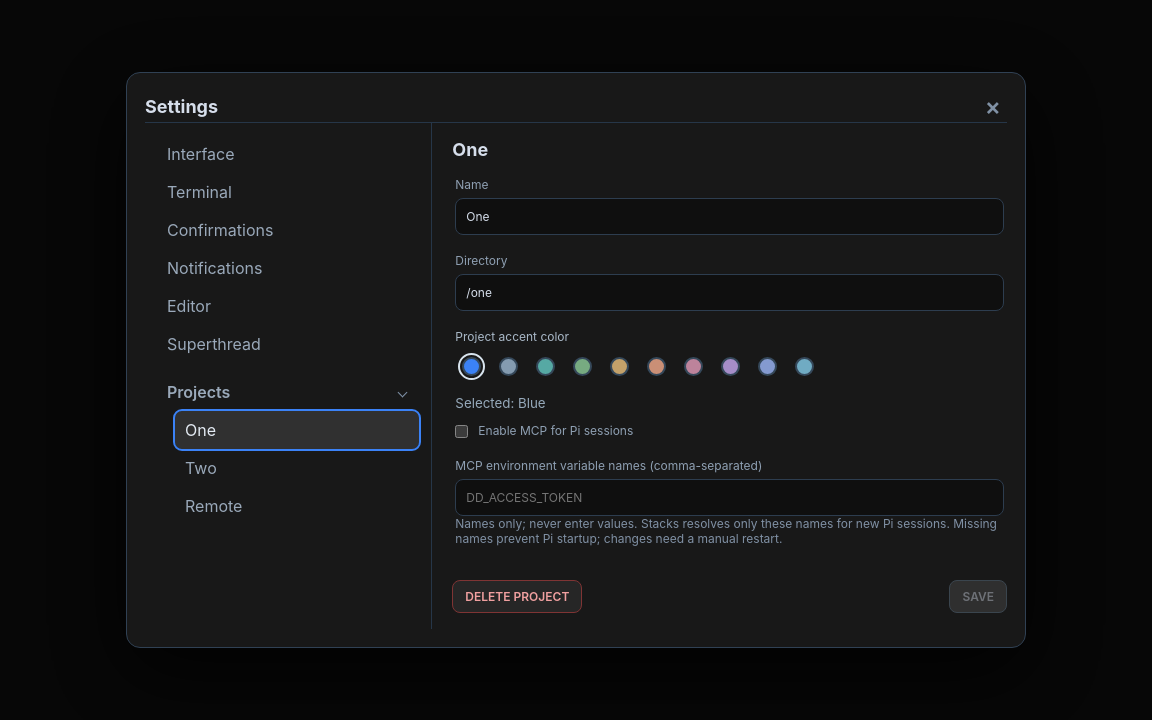
it: SettingsDialog › keeps MCP off by default and saves the project-only toggle without treating it as provider mapping
This screenshot has width=1152, height=720.
Click the checkbox labelled "Enable MCP for Pi sessions".
click(462, 431)  # box left=455, top=425, right=468, bottom=438
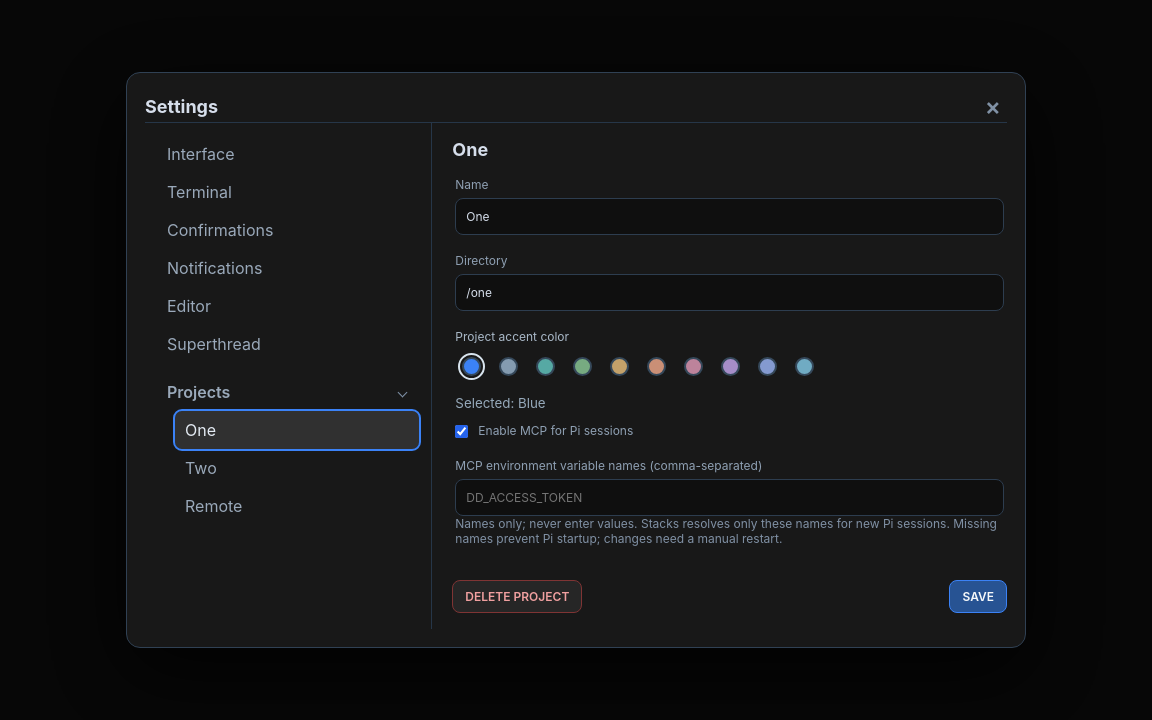
Result: the button "Save" is enabled
Click the button "Save".
click(978, 596)  # box left=950, top=580, right=1007, bottom=613
(page scrolled)
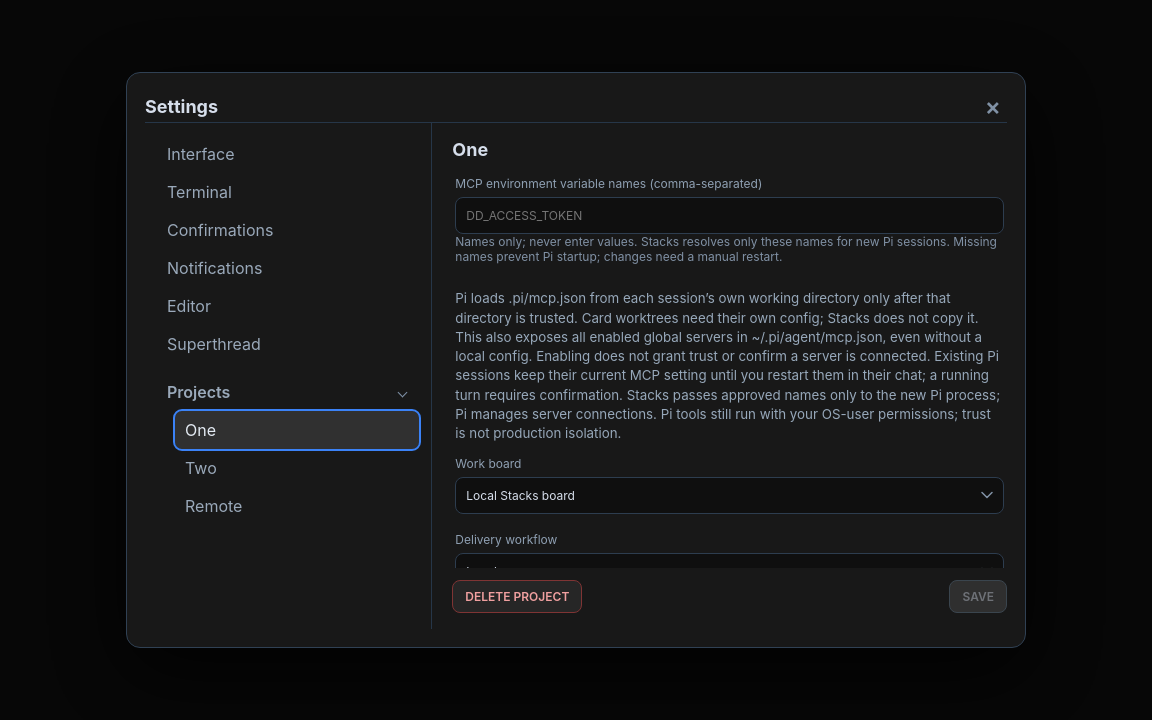
Result: the button "Save" is disabled at left=950, top=580, right=1007, bottom=613
Result: the text "global servers" is shown at left=455, top=290, right=1000, bottom=441
Result: the text "worktrees" is shown at left=455, top=290, right=1000, bottom=441
